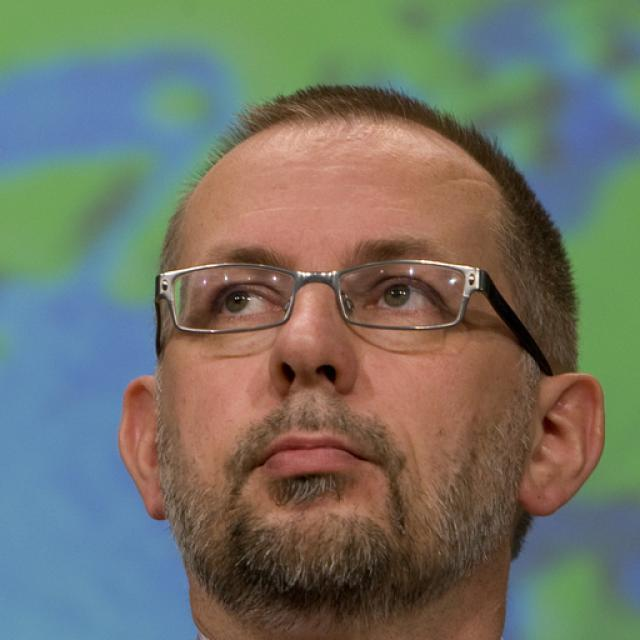neutral: (161, 113, 545, 612)
